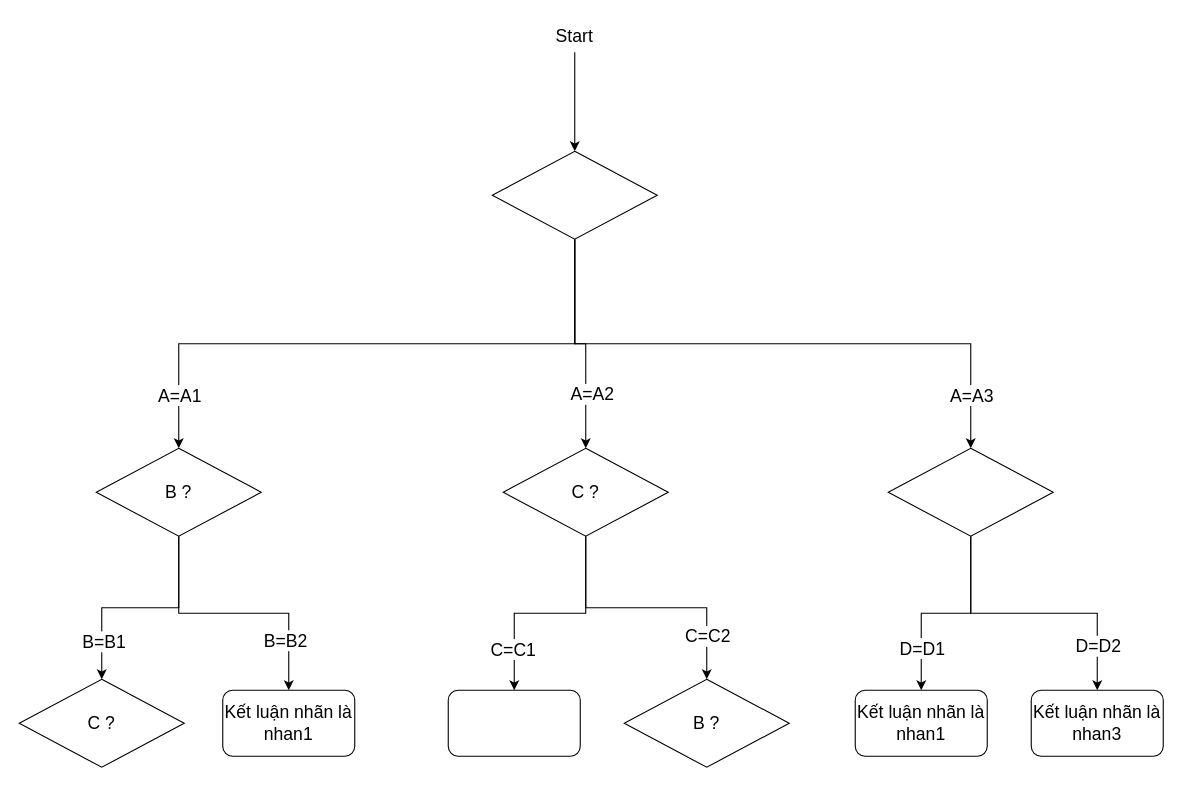
The diagram is 1183 pixels wide and 787 high, and some of its shapes have lost their labels. The centre of each missing label's shape, as x and y in pixels:
"A ?" belongs at point (574, 194).
"D ?" belongs at point (970, 491).
"Kết luận nhãn là nhan2" belongs at point (513, 722).
